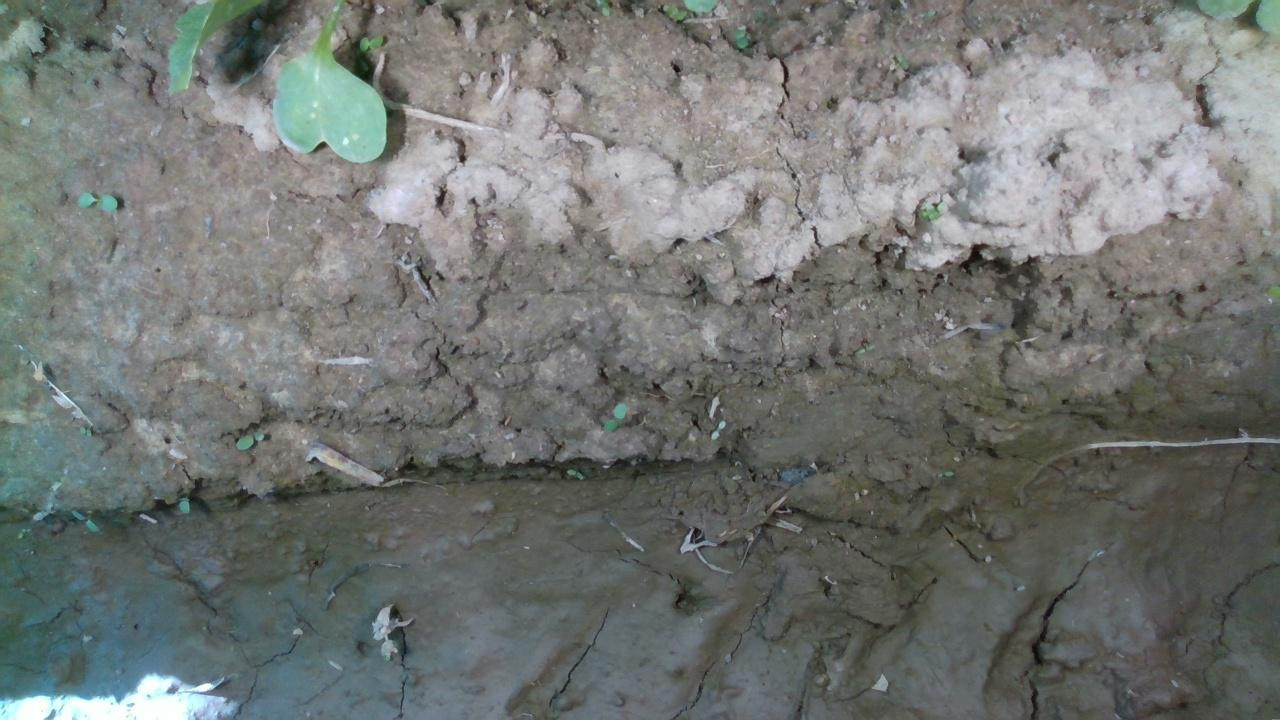weed: (75, 190, 117, 213), (69, 507, 101, 532), (233, 427, 264, 451), (355, 32, 384, 52), (732, 27, 748, 47), (77, 425, 91, 437)
